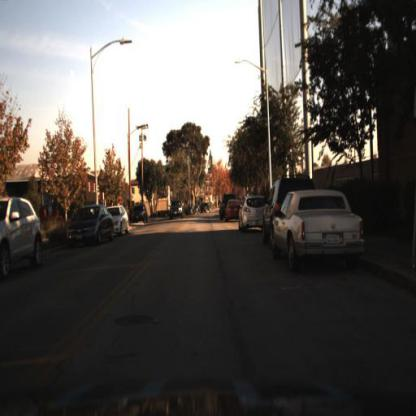car: (268, 180, 372, 272), (0, 198, 45, 280), (262, 174, 308, 249), (63, 190, 110, 254), (64, 202, 112, 246), (259, 173, 283, 243), (235, 195, 262, 235), (111, 201, 136, 236), (130, 200, 150, 228), (222, 198, 240, 226), (168, 197, 187, 223), (166, 198, 185, 222), (216, 196, 228, 221)
